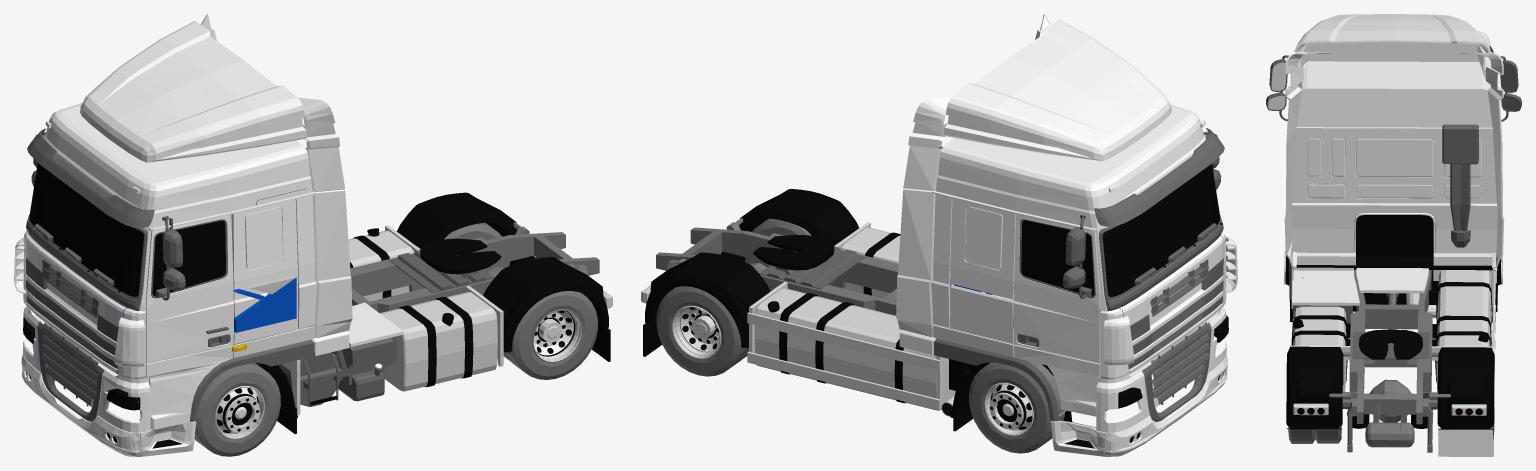
Rendered from truck.glb.
3 renders of one model, left to right at view 1: azimuth 30°, elevation 25°; view 2: azimuth 150°, elevation 25°; view 3: azimuth 270°, elevation 25°, orthographic. The views are drawn at different scales.
Parts seen in each view (by area): view 1: head; view 2: head; view 3: head.
Boxes of the visible parts, x1,y1,x2,y2 form: head: (14,14,612,456); head: (641,14,1237,456); head: (1266,14,1521,456).
Size of the model in its own units: 3.67 by 2.31 by 1.82.
2 materials, 2 textured.
